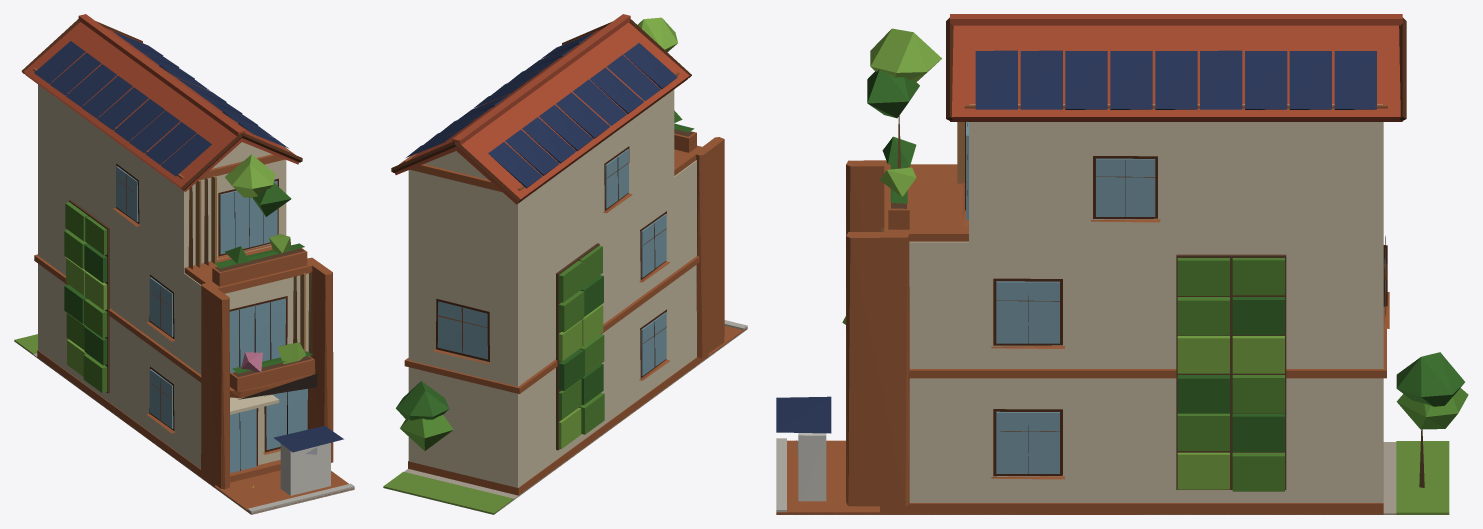
Rendered from bay1_one.glb.
The picture shows the model from 3 angles, left to right: view 1: azimuth 30°, elevation 25°; view 2: azimuth 150°, elevation 25°; view 3: azimuth 270°, elevation 25°; orthographic projection. The views are drawn at different scales.
Visible parts, largest first — view 1: body; view 2: body; view 3: body.
Part boxes in pixels (x1,y1,x2,y2): body: [14, 14, 354, 514]; body: [383, 14, 747, 514]; body: [776, 14, 1468, 514].
Size of the model in its own units: 4.7 by 12.06 by 16.36.
